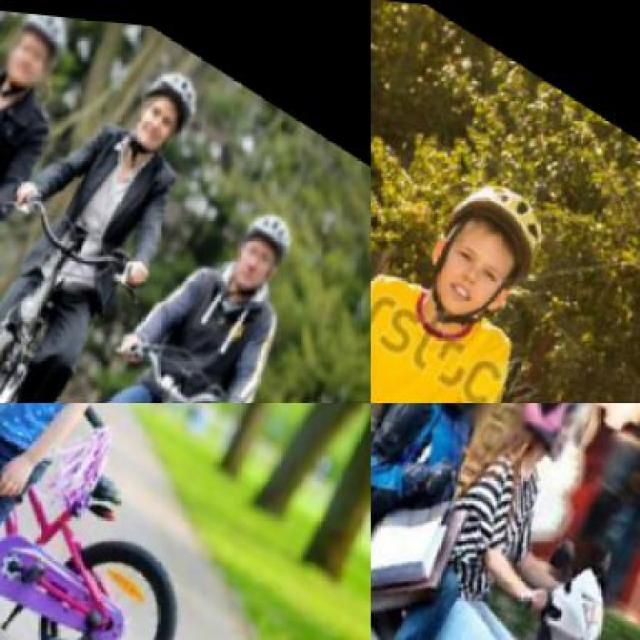With Helmet: (391, 142, 566, 350), (120, 46, 211, 156), (212, 184, 303, 291), (0, 3, 83, 95), (496, 403, 616, 463), (408, 403, 535, 431)
